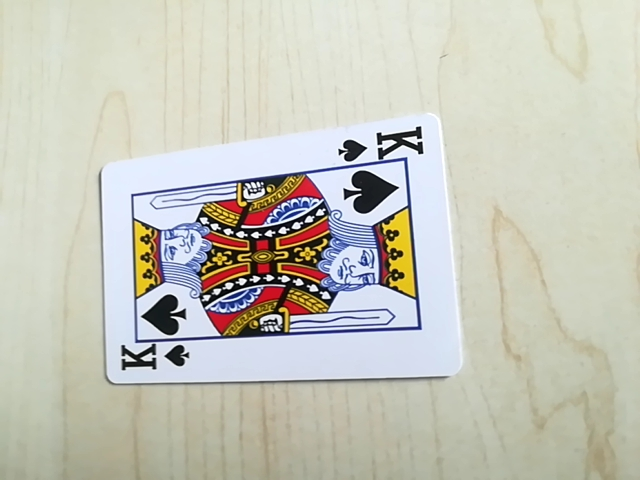ht k: (334, 125, 428, 165), (115, 337, 195, 378)
